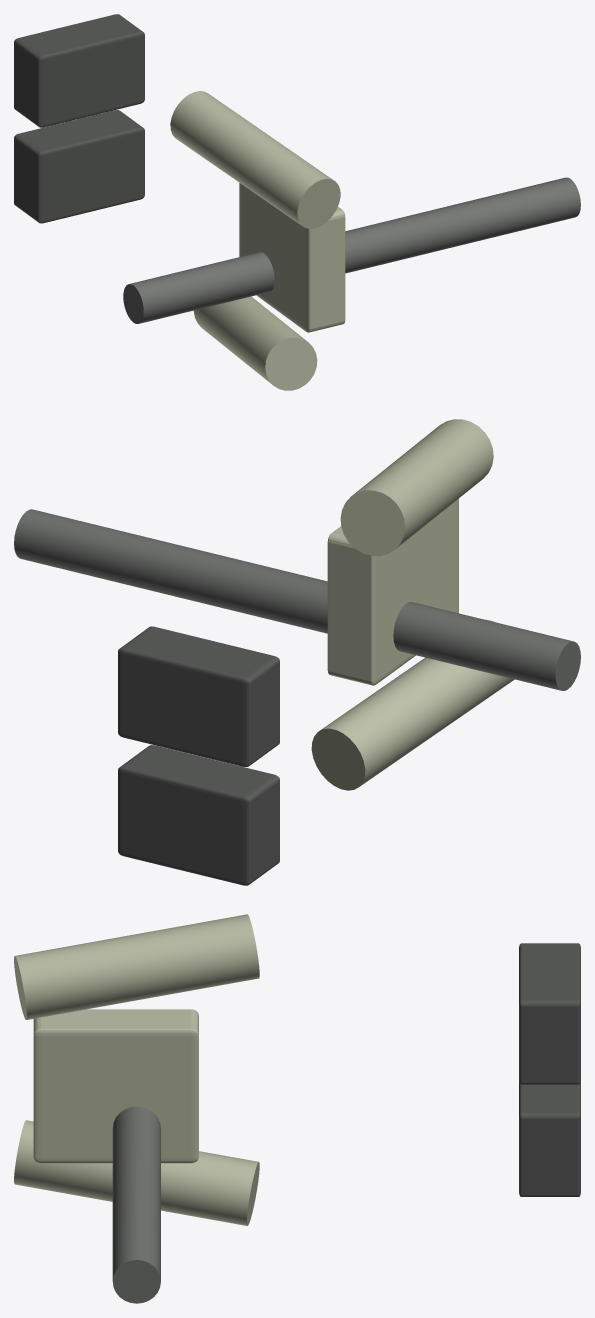
Rendered from v-u03-vanguard-sniper-lod2.glb.
3 views of the same model, one above another, from view 1: azimuth 30°, elevation 25°; view 2: azimuth 150°, elevation 25°; view 3: azimuth 270°, elevation 25° (orthographic). The views are drawn at different scales.
Parts seen in each view (by area): view 1: soldier_0_sniper, soldier_0_boot_1, soldier_0_boot_-1, soldier_0_arm_1, soldier_0_chest, soldier_0_arm_-1; view 2: soldier_0_sniper, soldier_0_boot_1, soldier_0_boot_-1, soldier_0_chest, soldier_0_arm_-1, soldier_0_arm_1; view 3: soldier_0_chest, soldier_0_arm_1, soldier_0_arm_-1, soldier_0_sniper, soldier_0_boot_1, soldier_0_boot_-1.
Boxes of the visible parts, x1=… form: soldier_0_sniper: x1=123, y1=177, x2=580, y2=323; soldier_0_boot_1: x1=14, y1=14, x2=144, y2=127; soldier_0_boot_-1: x1=14, y1=110, x2=144, y2=223; soldier_0_arm_1: x1=170, y1=91, x2=340, y2=228; soldier_0_chest: x1=239, y1=183, x2=345, y2=332; soldier_0_arm_-1: x1=193, y1=296, x2=317, y2=390; soldier_0_sniper: x1=14, y1=509, x2=580, y2=690; soldier_0_boot_1: x1=118, y1=626, x2=279, y2=766; soldier_0_boot_-1: x1=118, y1=745, x2=279, y2=885; soldier_0_chest: x1=327, y1=498, x2=458, y2=685; soldier_0_arm_-1: x1=311, y1=619, x2=514, y2=790; soldier_0_arm_1: x1=340, y1=419, x2=493, y2=556; soldier_0_chest: x1=33, y1=1009, x2=198, y2=1163; soldier_0_arm_1: x1=14, y1=914, x2=259, y2=1019; soldier_0_arm_-1: x1=14, y1=1120, x2=259, y2=1225; soldier_0_sniper: x1=112, y1=1106, x2=160, y2=1303; soldier_0_boot_1: x1=519, y1=943, x2=580, y2=1084; soldier_0_boot_-1: x1=519, y1=1081, x2=580, y2=1196.
Size of what is drawn, in the model's own units: 1.65 by 0.894 by 1.58.
